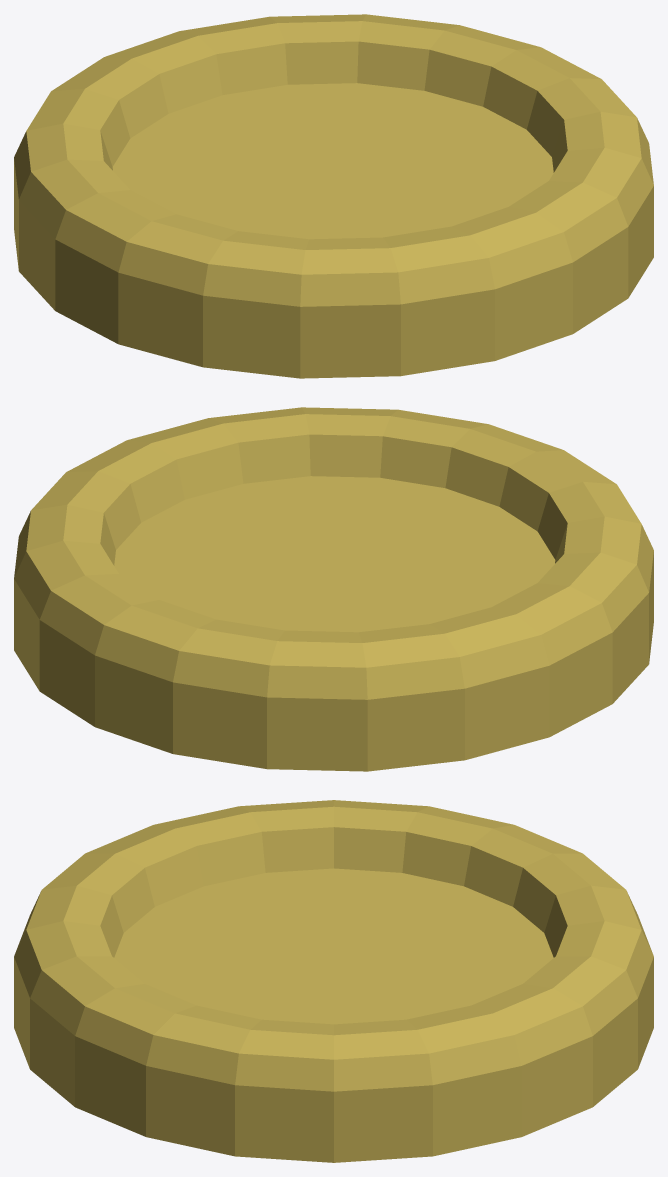
File: Coin.glb
The picture shows the model from 3 angles, top to bottom: view 1: azimuth 30°, elevation 25°; view 2: azimuth 150°, elevation 25°; view 3: azimuth 270°, elevation 25°; orthographic projection.
Parts seen in each view (by area): view 1: Coin; view 2: Coin; view 3: Coin.
Part boxes in pixels (x1,y1,x2,y2): Coin: (14,14,653,378); Coin: (14,407,653,771); Coin: (14,800,653,1162).
Size of the model in its own units: 0.1842 by 0.034 by 0.1844.
